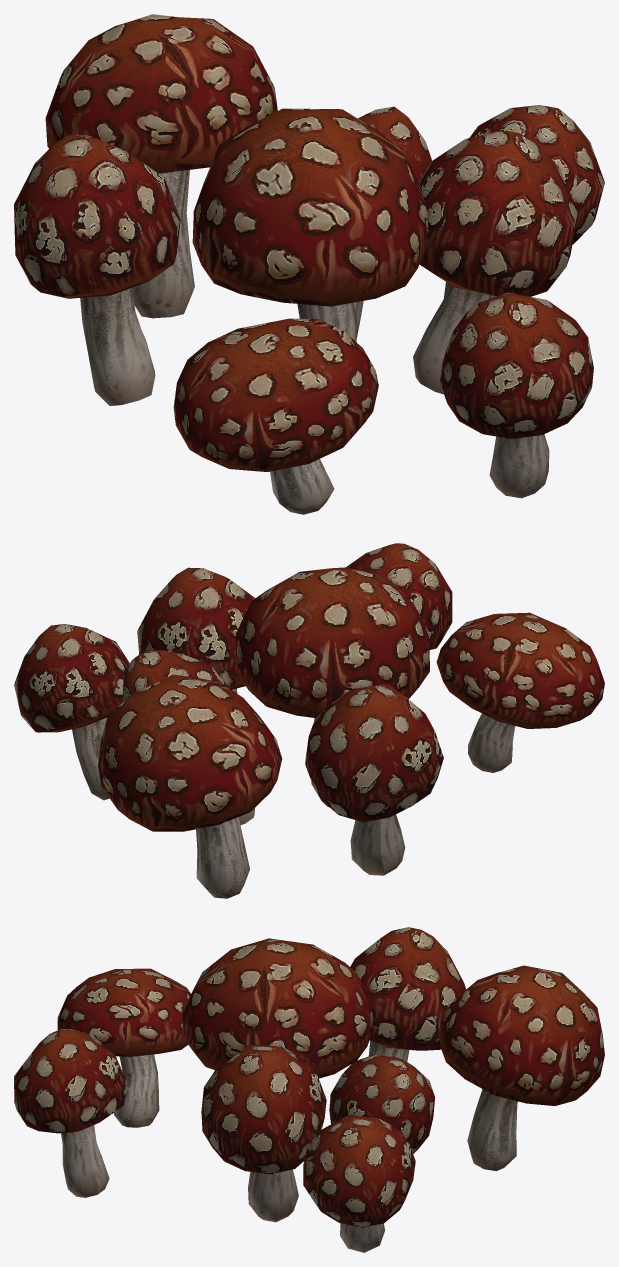
Rendered from mushroom_1_group_2.fbx.
3 renders of one model, top to bottom at view 1: azimuth 30°, elevation 25°; view 2: azimuth 150°, elevation 25°; view 3: azimuth 270°, elevation 25°, orthographic. The views are drawn at different scales.
Parts seen in each view (by area): view 1: Mushroom_1_Group_2; view 2: Mushroom_1_Group_2; view 3: Mushroom_1_Group_2.
Part boxes in pixels (<box>): Mushroom_1_Group_2: <box>14,14,604,514</box>; Mushroom_1_Group_2: <box>14,543,604,898</box>; Mushroom_1_Group_2: <box>14,927,604,1252</box>.
Bounding box in the file's own units: 1.41 × 0.7222 × 1.72.
